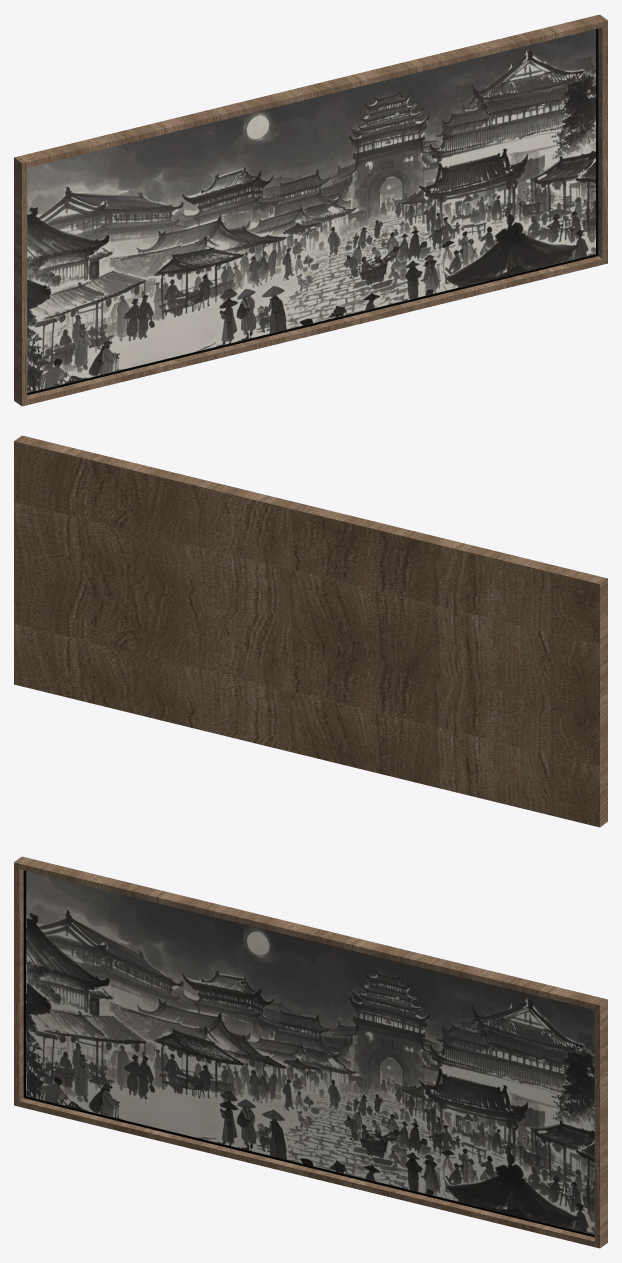
3 views of the same model, one above another, from view 1: azimuth 30°, elevation 25°; view 2: azimuth 150°, elevation 25°; view 3: azimuth 330°, elevation 25° (orthographic).
Parts seen in each view (by area): view 1: ST-画照; view 2: ST-画照; view 3: ST-画照.
Boxes of the visible parts, x1,y1,x2,y2 form: ST-画照: (14, 14, 607, 406); ST-画照: (14, 435, 607, 827); ST-画照: (14, 856, 607, 1248).
Size of the model in its own units: 2.29 by 0.0542 by 0.9096.
